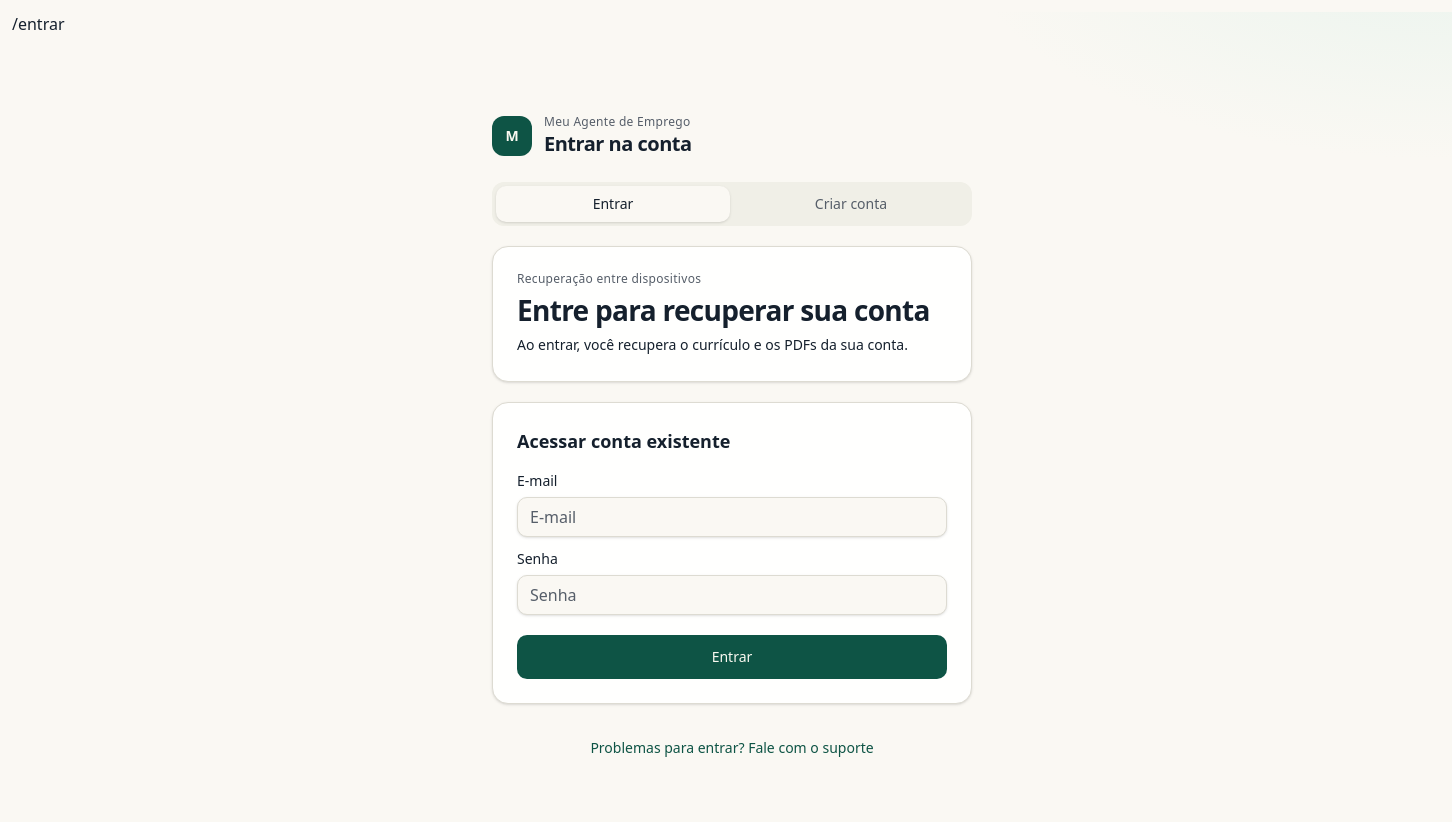
Test: logout com timeout ou erro › timeout do logout limpa a memória, avisa a outra aba e vai para /
The width and height of the screenshot is (1452, 822).
Type "ada@example.com" into the field with test id "login-email" at (732, 517), box [517,497,947,537]
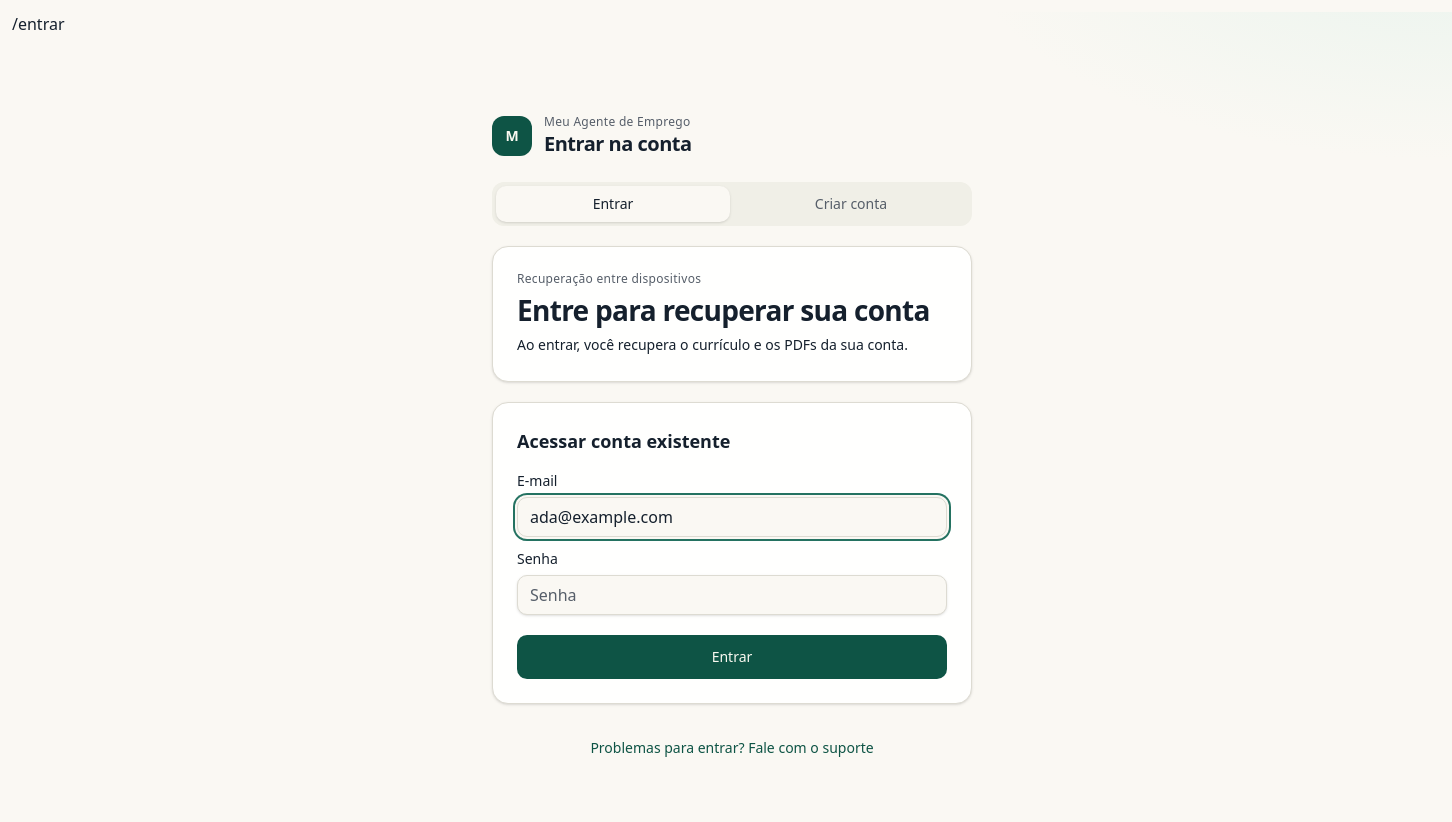
Type "senha-segura" into the password field with test id "login-password" at (732, 595), box [517,575,947,615]
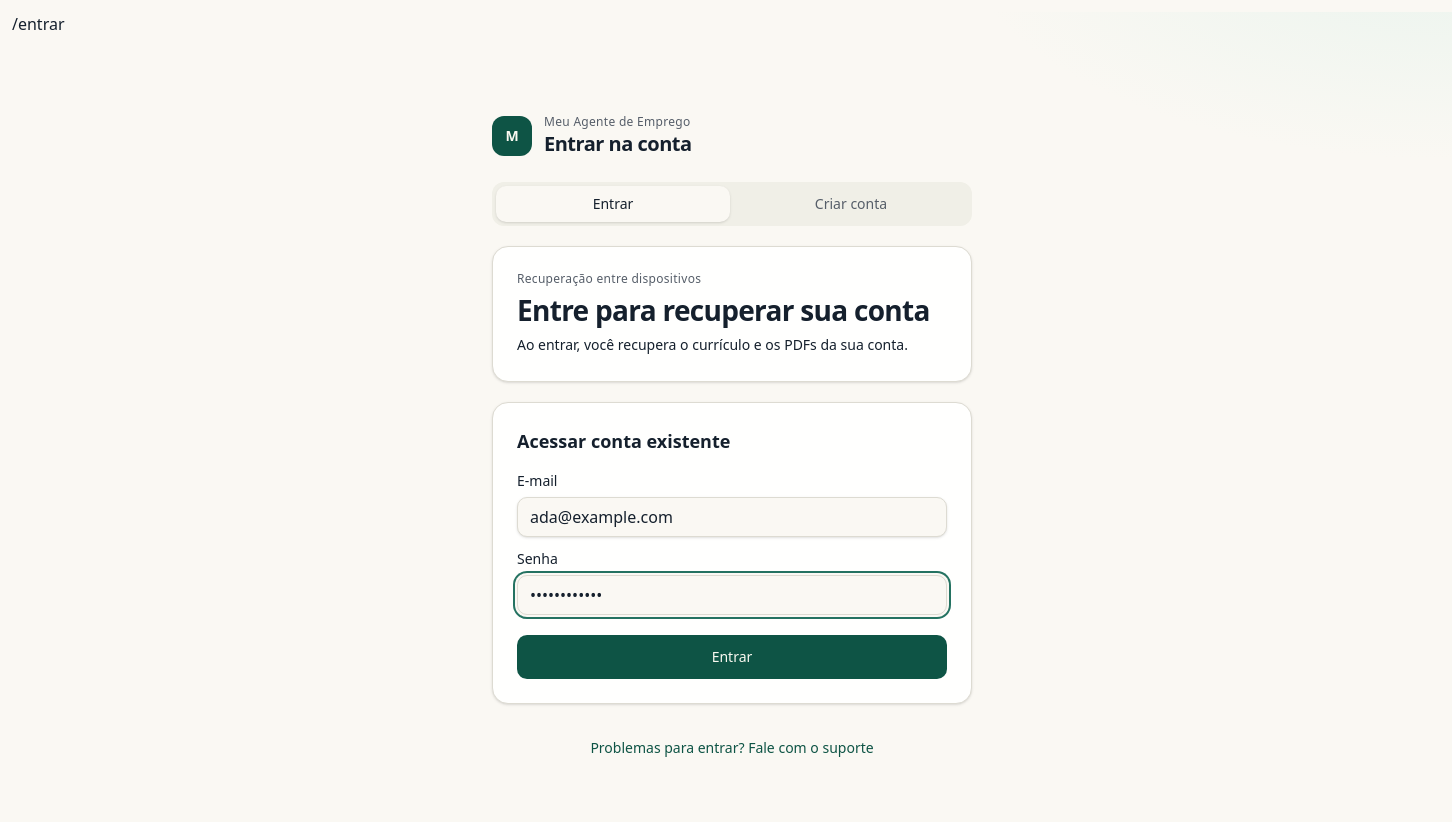
Click the button with test id "login-submit" at (732, 657), box [517,635,947,679]
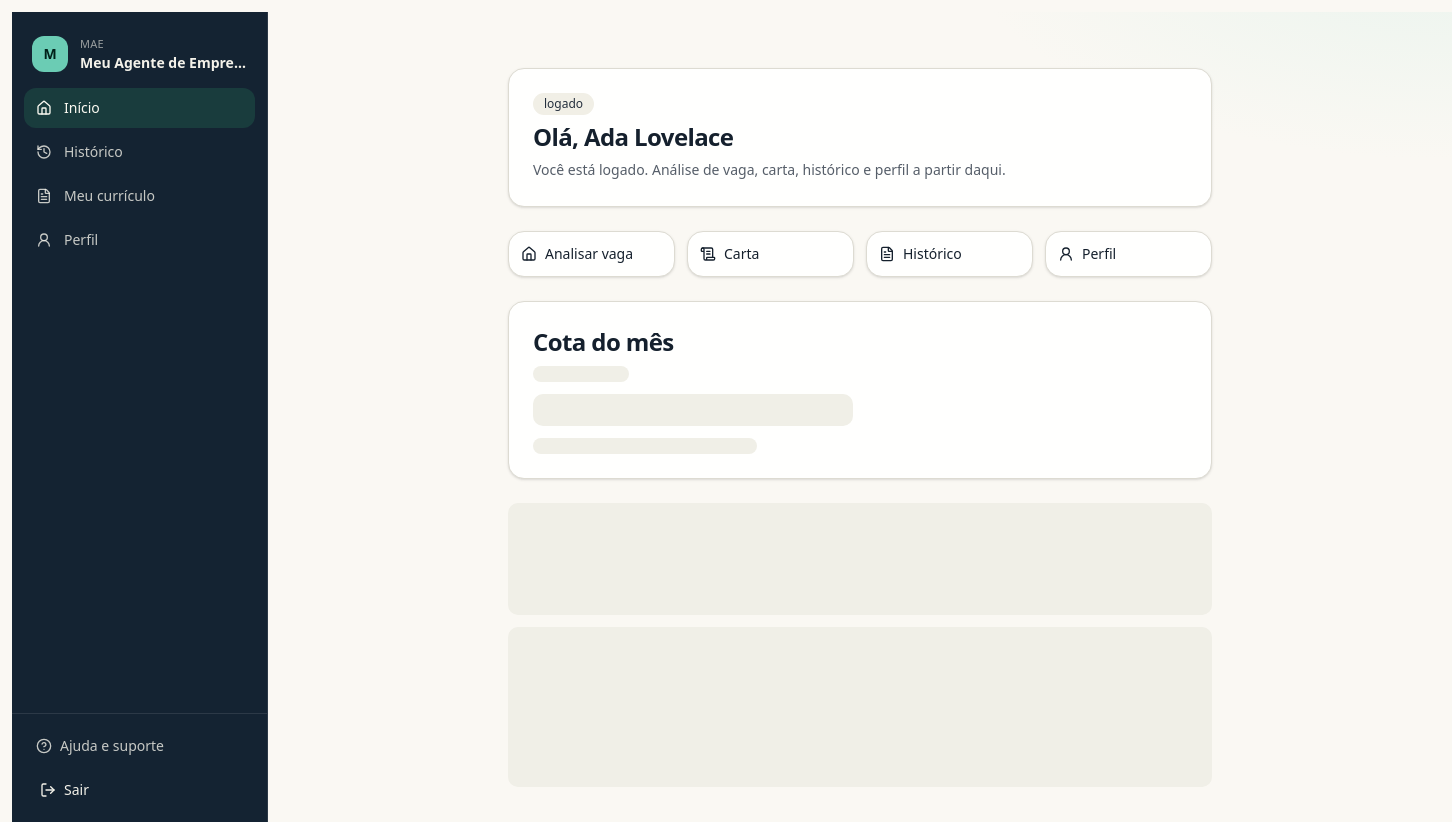
Expected: the button with test id "logout-button" is shown
Click the button with test id "logout-button" at (140, 790), box [24,770,255,810]
Wait 5000 ms
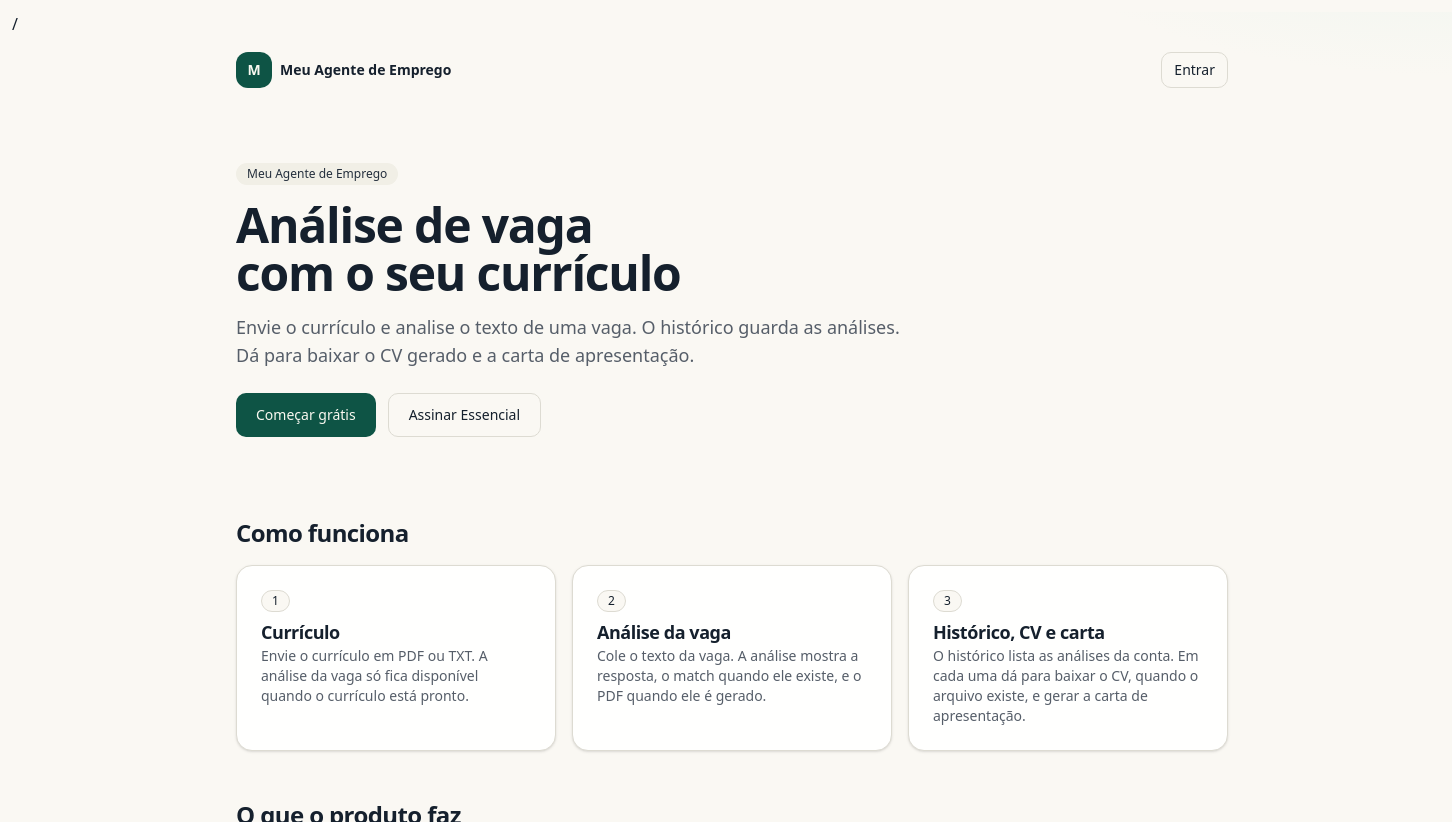
Expected: the text with test id "session-location" reads "/", [12,13,18,35]
Expected: the element with test id "home-shell" is gone
